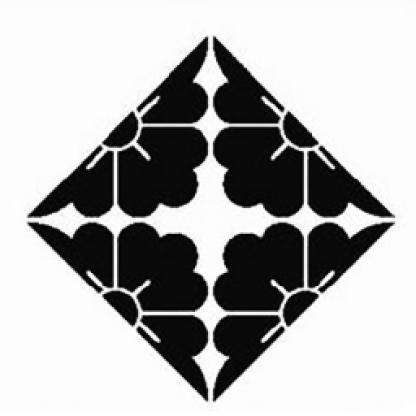kamon: (24, 32, 398, 404)
